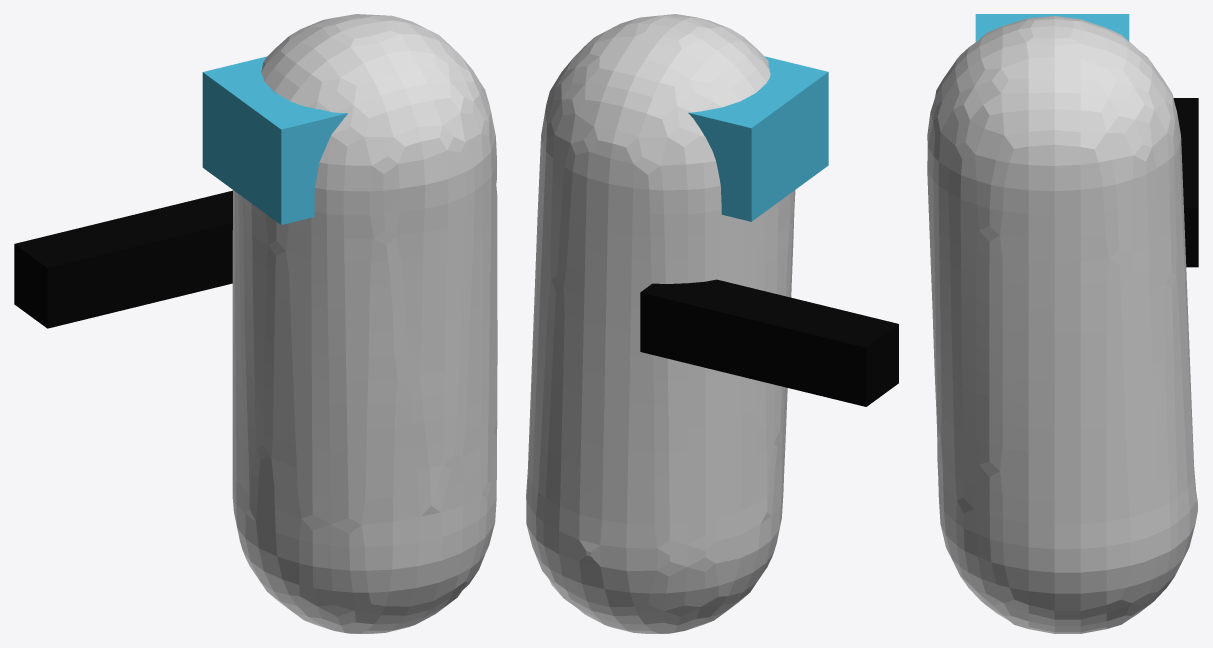
The model's file is cracter.fbx.
3 renders of one model, left to right at view 1: azimuth 30°, elevation 25°; view 2: azimuth 150°, elevation 25°; view 3: azimuth 270°, elevation 25°, orthographic. The views are drawn at different scales.
Visible parts, largest first — view 1: Sphere, Cube.001, Cube; view 2: Sphere, Cube.001, Cube; view 3: Sphere, Cube.001, Cube.
Boxes of the visible parts, x1=… form: Sphere: x1=232, y1=14, x2=497, y2=633; Cube.001: x1=14, y1=190, x2=232, y2=328; Cube: x1=202, y1=56, x2=347, y2=224; Sphere: x1=526, y1=14, x2=795, y2=633; Cube.001: x1=640, y1=279, x2=898, y2=406; Cube: x1=688, y1=56, x2=828, y2=221; Sphere: x1=927, y1=16, x2=1197, y2=633; Cube.001: x1=1173, y1=98, x2=1198, y2=267; Cube: x1=975, y1=14, x2=1129, y2=41.
Bounding box in the file's own units: 344 × 501 × 209.
